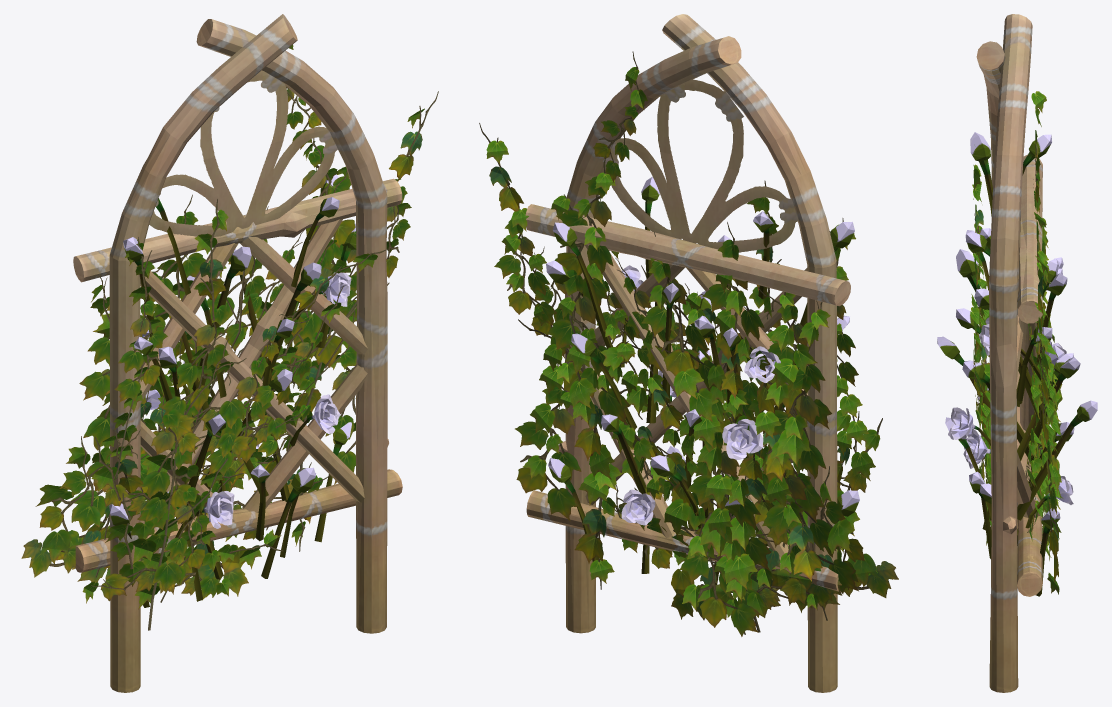
File: P_Rosemuxiang02.obj
3 renders of one model, left to right at view 1: azimuth 30°, elevation 25°; view 2: azimuth 150°, elevation 25°; view 3: azimuth 270°, elevation 25°, orthographic. The views are drawn at different scales.
Bounding box in the file's own units: 2.39 × 3.34 × 0.8077.
36 materials, 36 textured.
